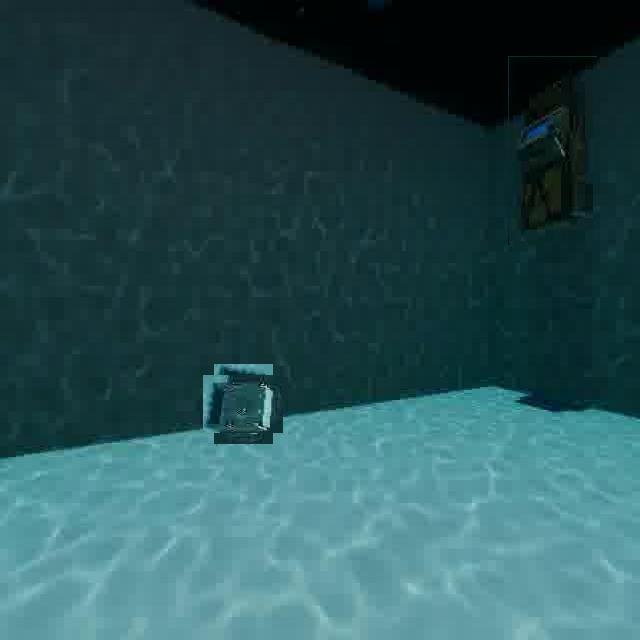Control Panel: (508, 56, 597, 245)
Docking Station: (209, 369, 278, 438)
